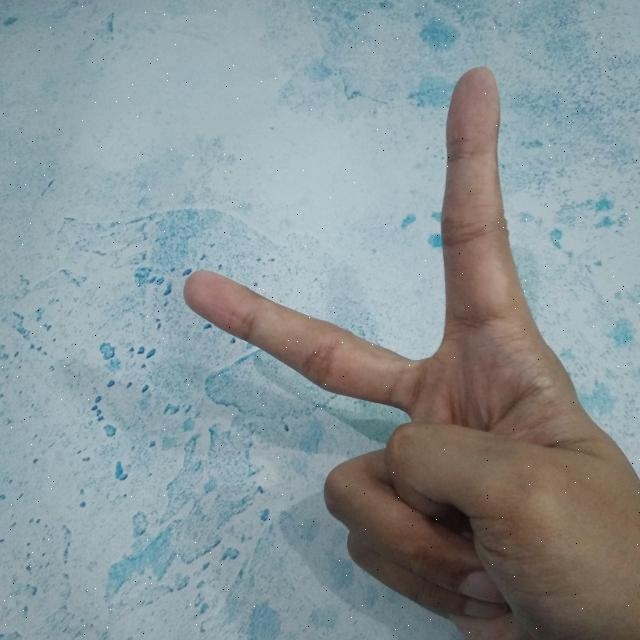V: (176, 56, 640, 640)
